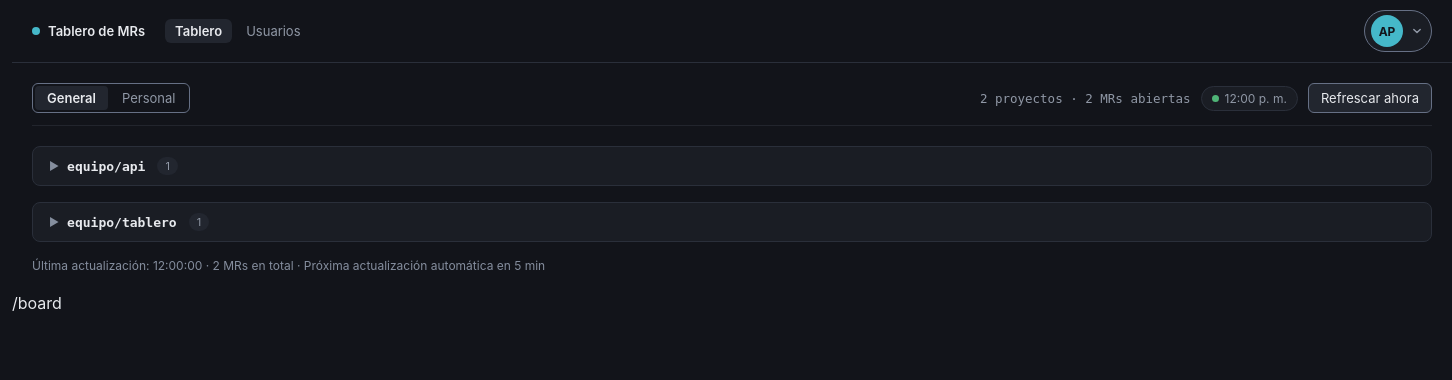
Scenario: vista personal de un administrador › solicita elegir una persona antes de mostrar columnas
The image size is (1452, 380).
Step 1. Click the button "Personal" → (149, 98), box [110,86,188,110]
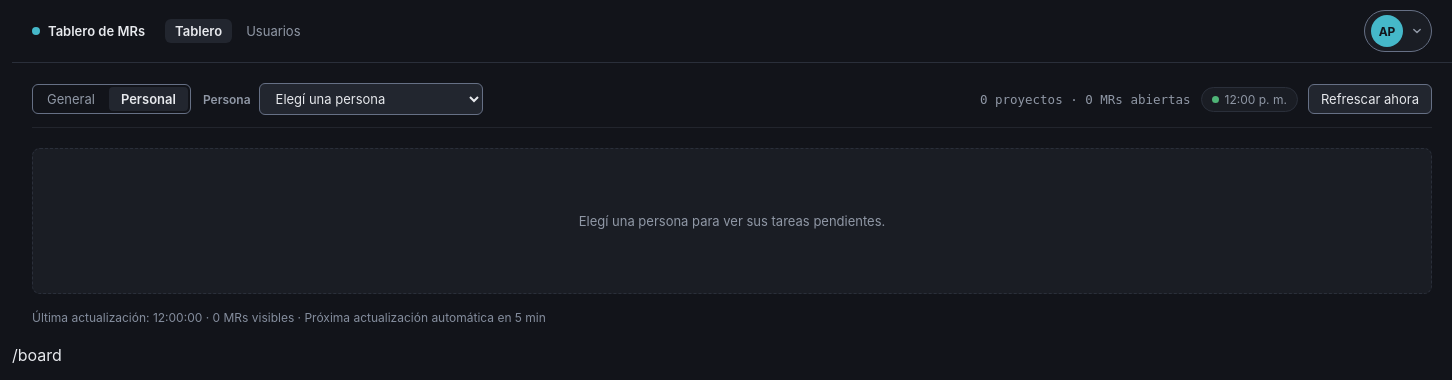
Now the message "Elegí una persona para ver sus tareas pendientes." is shown, box [32,148,1432,294]
